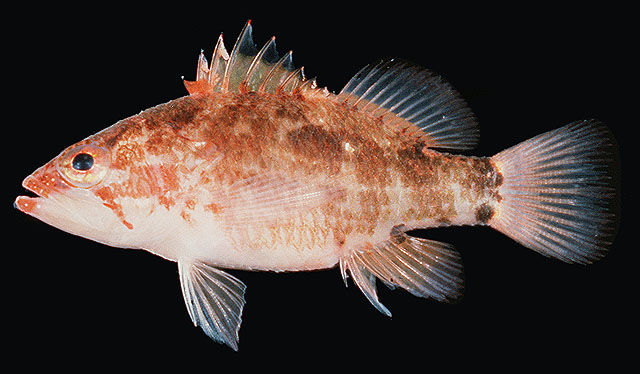fish: (13, 18, 616, 353)
